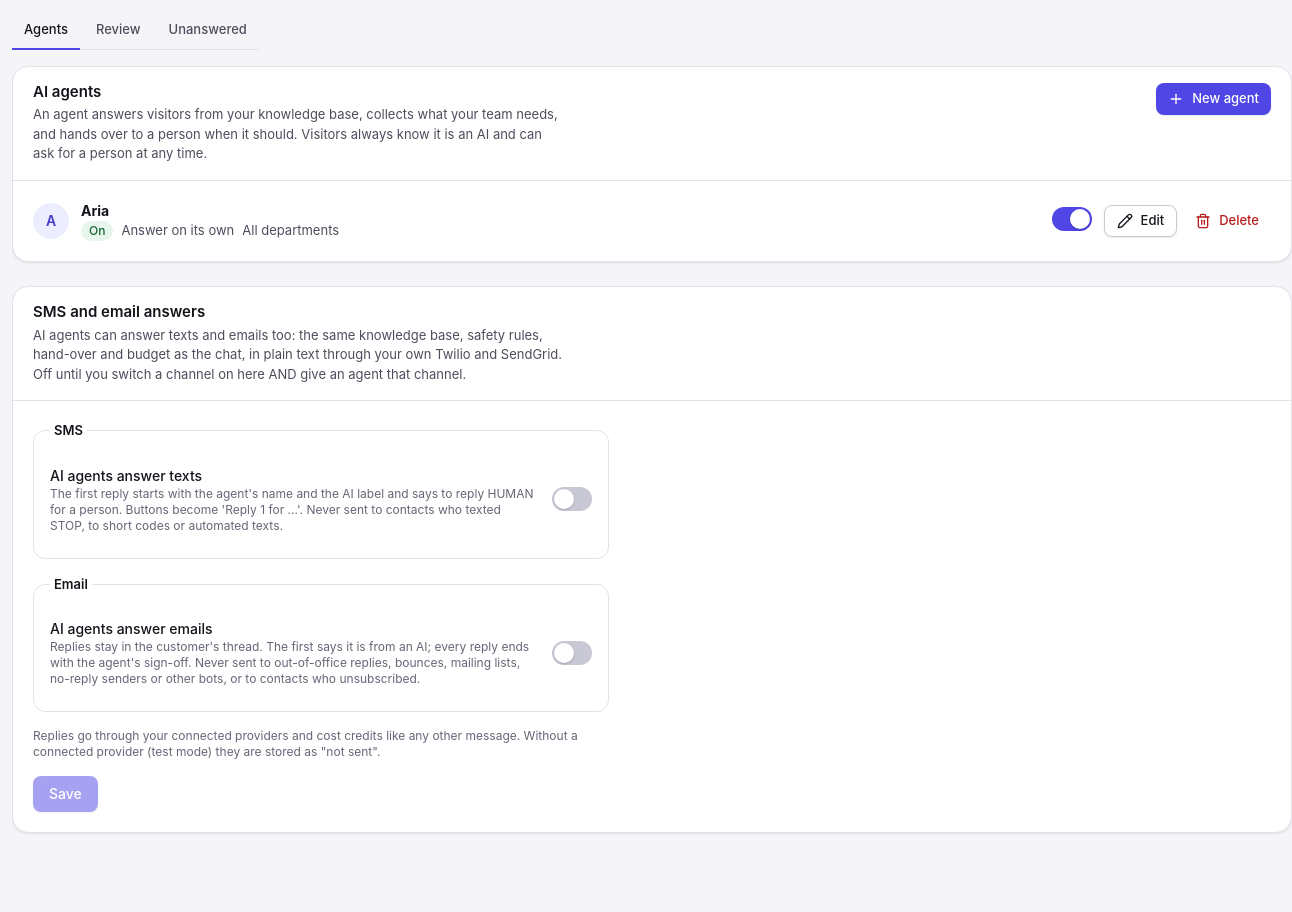
Test: AiAgentsSettings › reviews turns with their votes, and lists the unanswered questions
What coordinates should you click on to do the following:
click the tab "Review"
I would click on:
 (118, 31)
Its box is [84, 12, 153, 50].
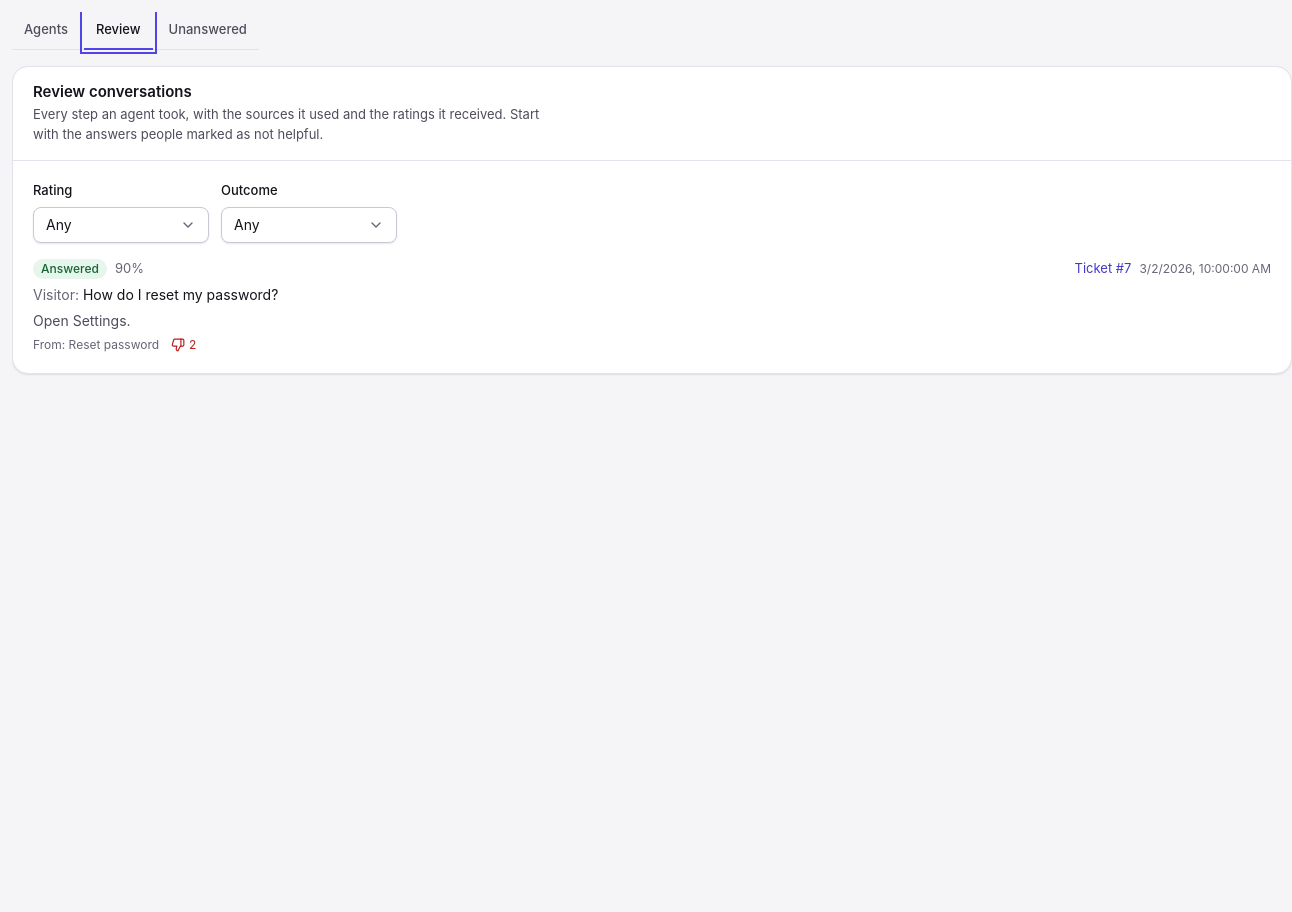
Now the text "Answered" is shown, box [33, 259, 107, 279]
Now the link "Ticket #7" is shown, box [1074, 259, 1131, 278]
What coordinates should you click on to do the following:
click the tab "Unanswered"
I would click on:
 (208, 31)
Its box is [156, 12, 259, 50].
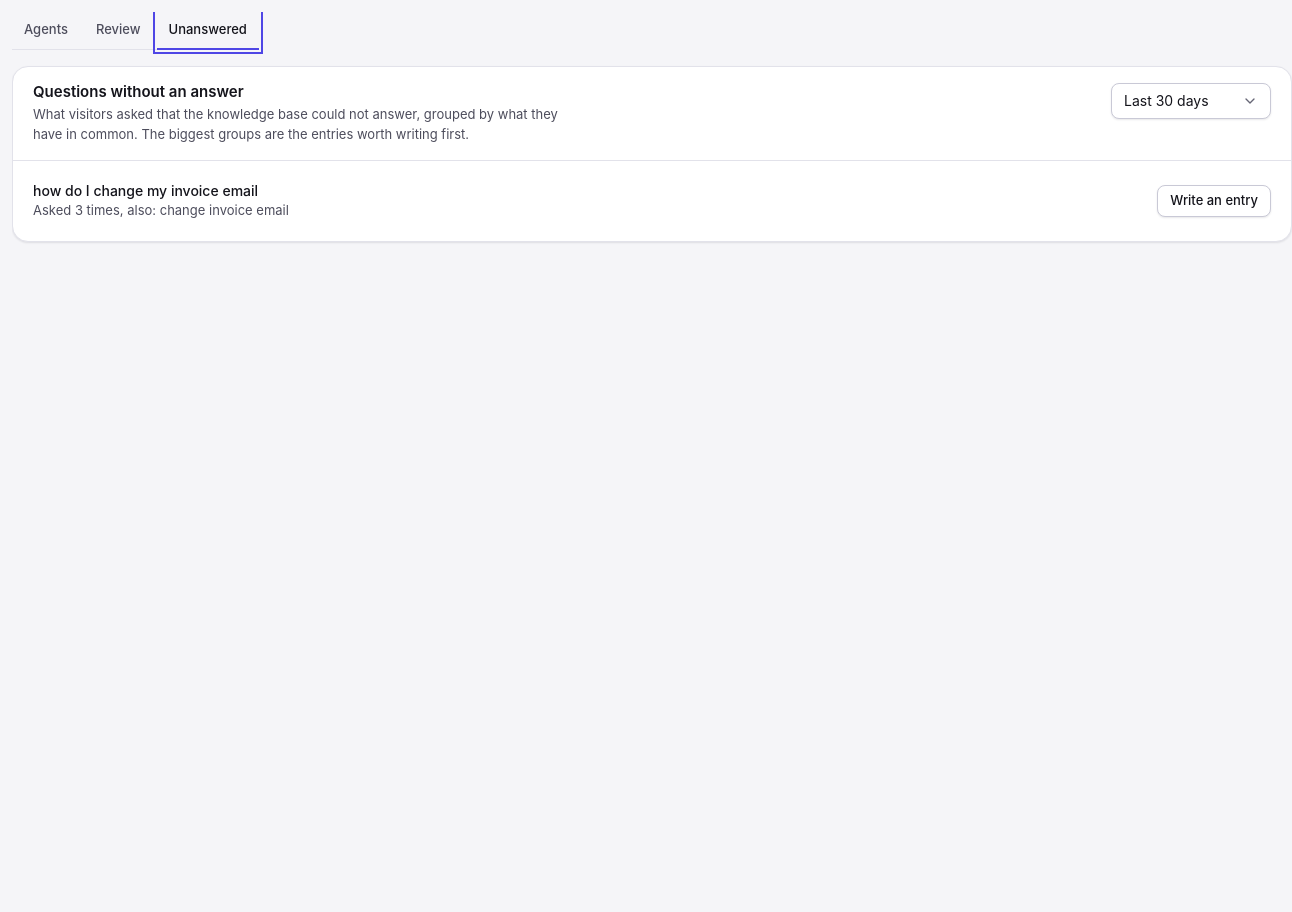
Now the text "Asked 3 times, also: change invoice email" is shown, box [33, 202, 289, 218]
Now the button named "Write an entry for how do I change my invoice email" is shown, box [1157, 185, 1271, 217]
